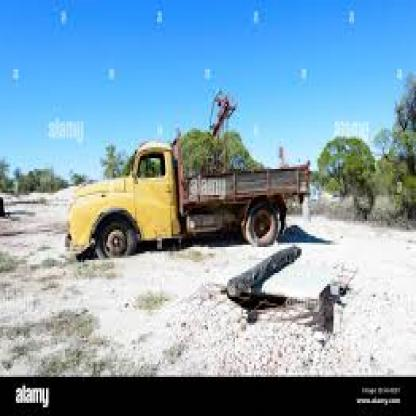dump_truck: (26, 63, 334, 323)
